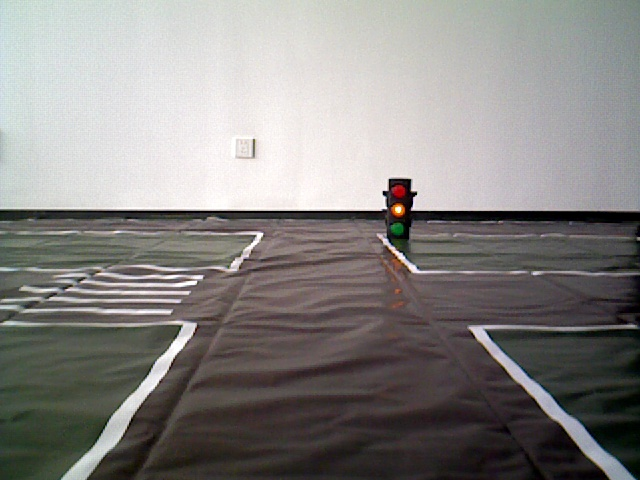yellow: (385, 180, 416, 245)
